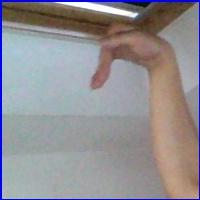del: (86, 20, 173, 97)
